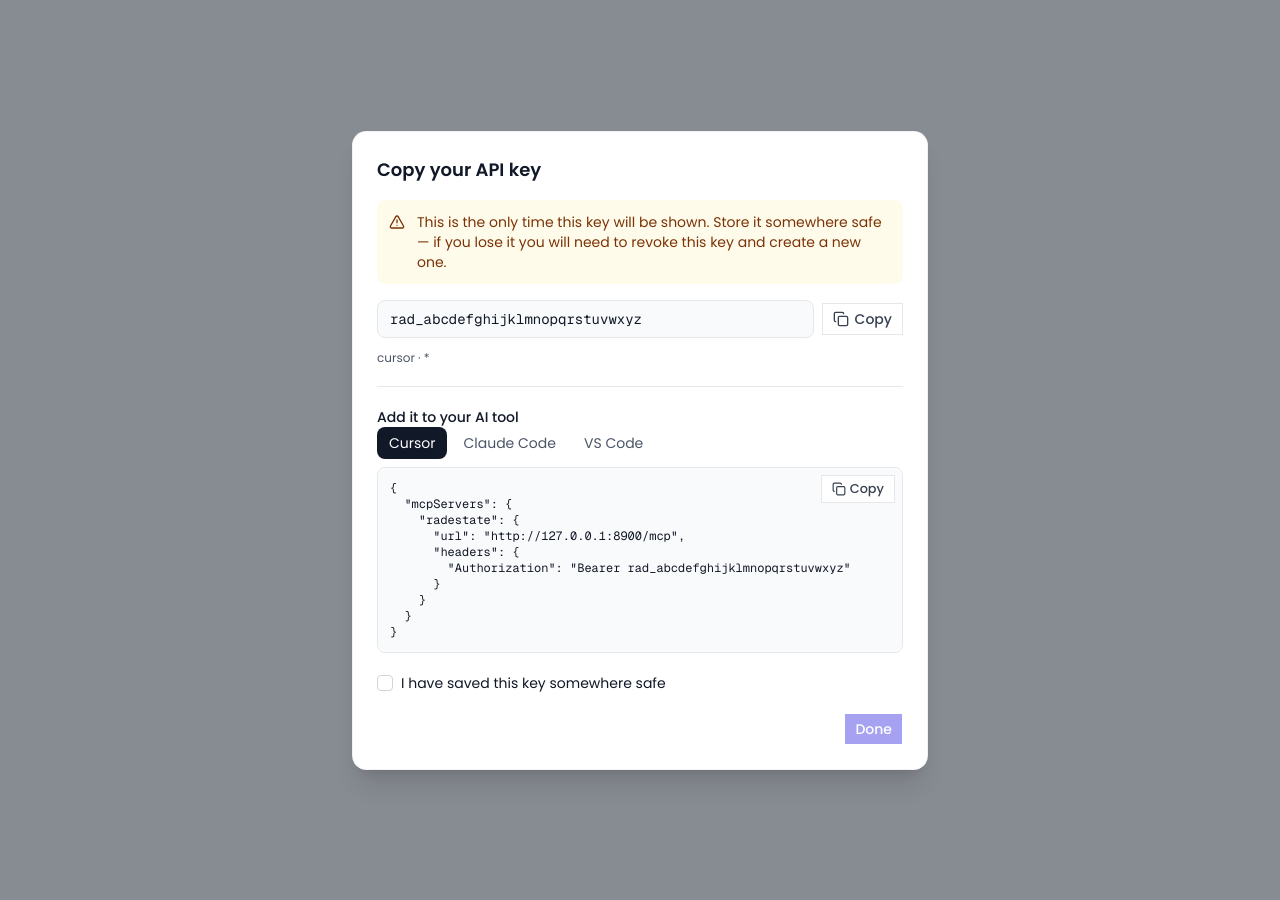
ApiKeyCreatedDialog › keeps Done disabled until the key is acknowledged
This screenshot has width=1280, height=900.
Expected: the button "Done" is disabled, [844,712,903,744]
Click the checkbox at (385,682), box [377,674,393,690]
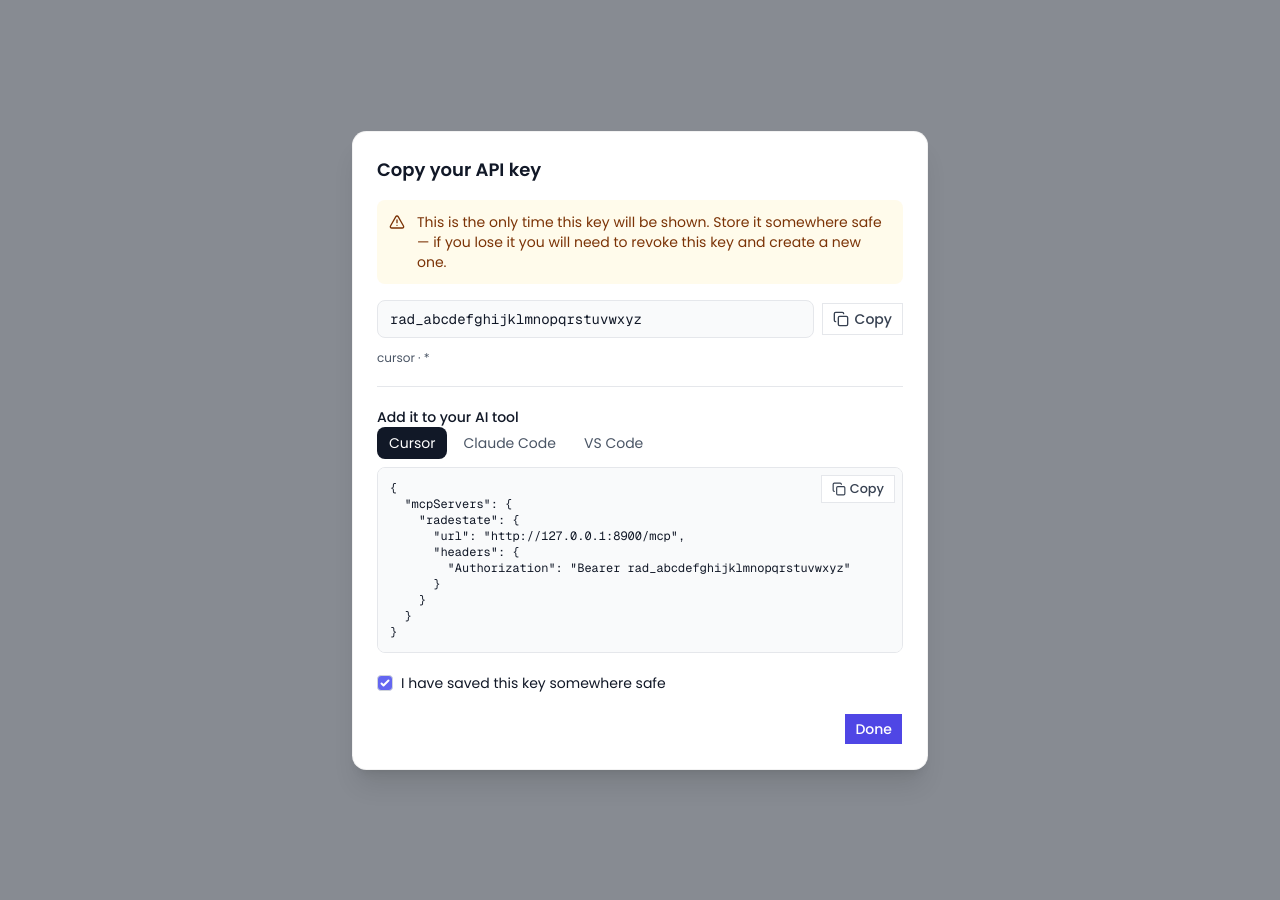
Now the button "Done" is enabled, box [844,712,903,744]
